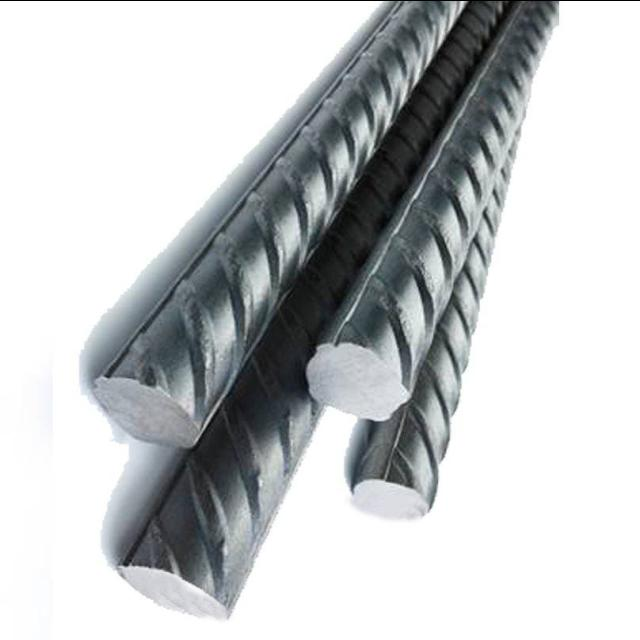Rebar: (300, 333, 420, 421), (91, 370, 213, 456), (107, 569, 237, 628), (348, 475, 441, 527)
